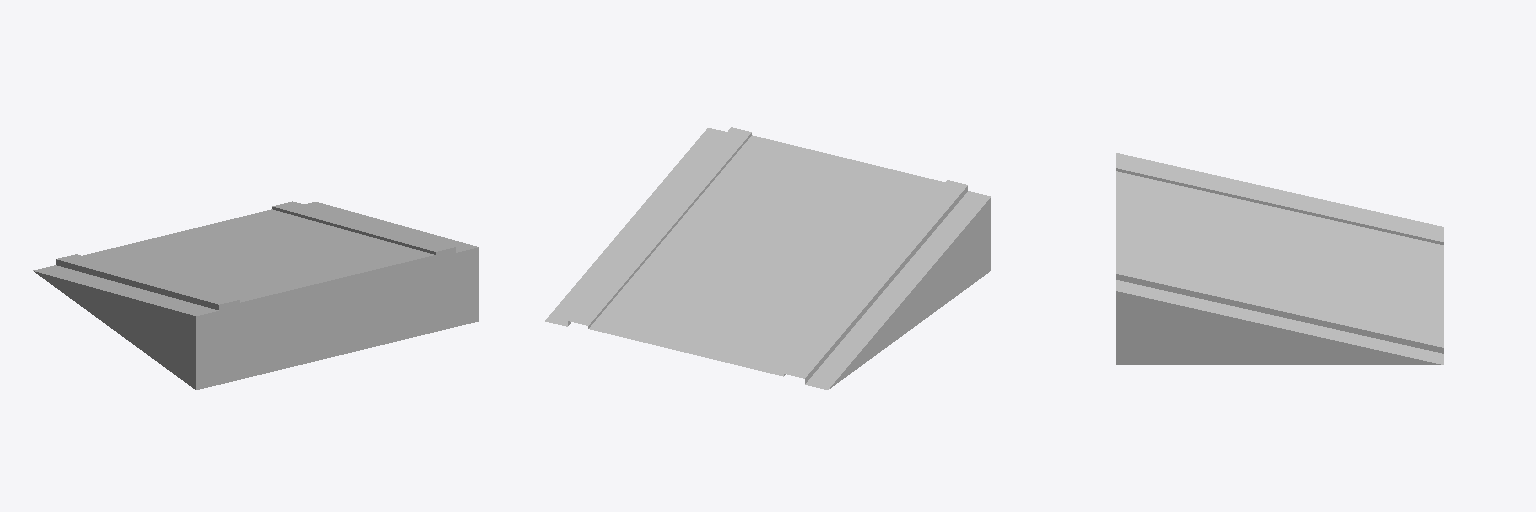
The model's file is roadRampWall.obj.
The picture shows the model from 3 angles: view 1: azimuth 30°, elevation 25°; view 2: azimuth 150°, elevation 25°; view 3: azimuth 270°, elevation 25°; orthographic projection.
Parts seen in each view (by area): view 1: roadRampWall; view 2: roadRampWall; view 3: roadRampWall.
Boxes of the visible parts, box(x1,y1,x2,y2) form: roadRampWall: box(33, 201, 478, 389); roadRampWall: box(545, 127, 990, 389); roadRampWall: box(1116, 153, 1443, 364).
Size of the model in its own units: 1 by 0.27 by 1.